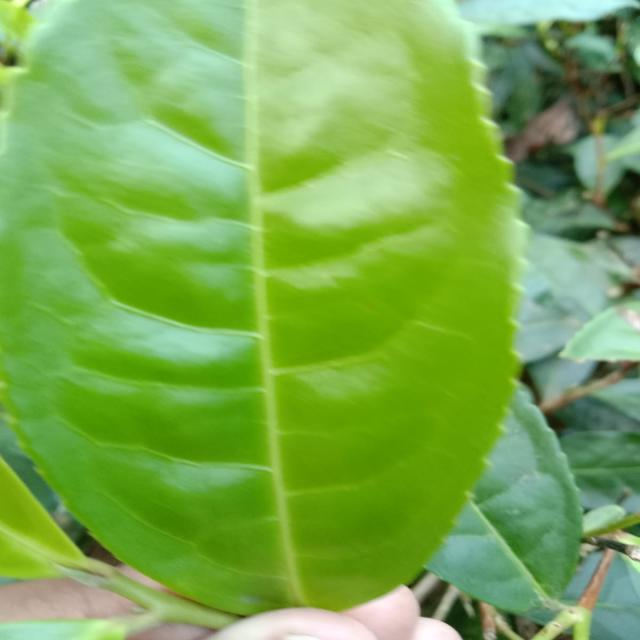Category C(4-7 days): (4, 1, 536, 624)
